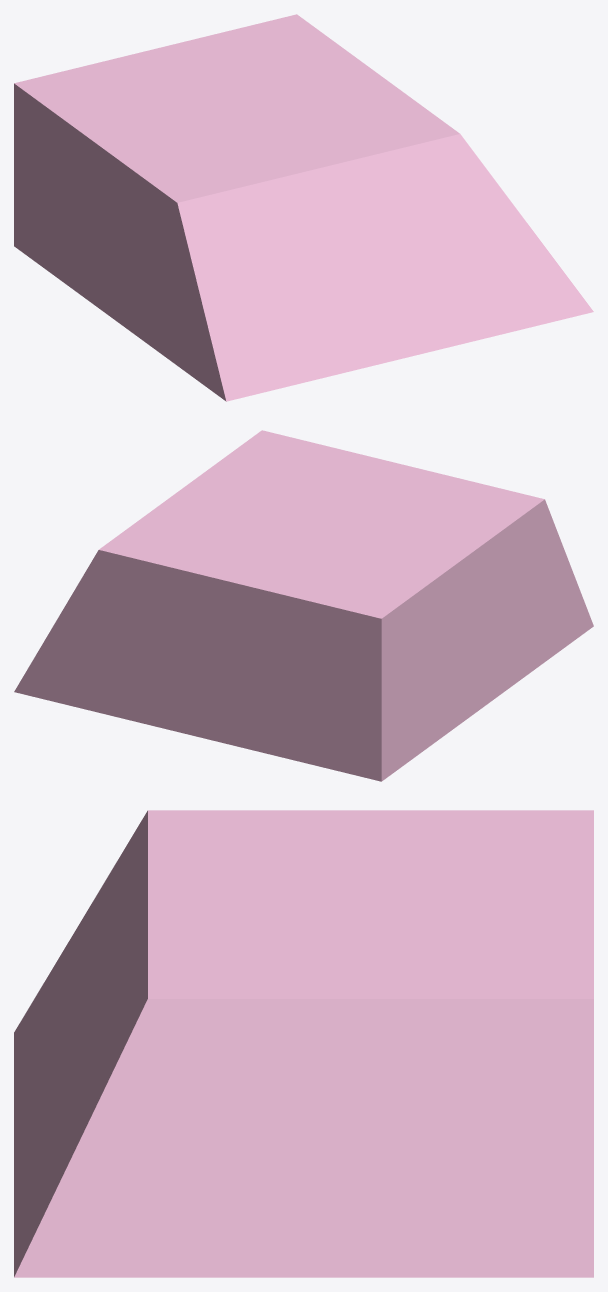
3 renders of one model, top to bottom at view 1: azimuth 30°, elevation 25°; view 2: azimuth 150°, elevation 25°; view 3: azimuth 270°, elevation 25°, orthographic. The views are drawn at different scales.
Visible parts, largest first — view 1: Object20; view 2: Object20; view 3: Object20.
Boxes of the visible parts, x1,y1,x2,y2 form: Object20: (14, 14, 593, 401); Object20: (14, 430, 593, 781); Object20: (14, 810, 593, 1277).
Size of the model in its own units: 260 by 110 by 260.
